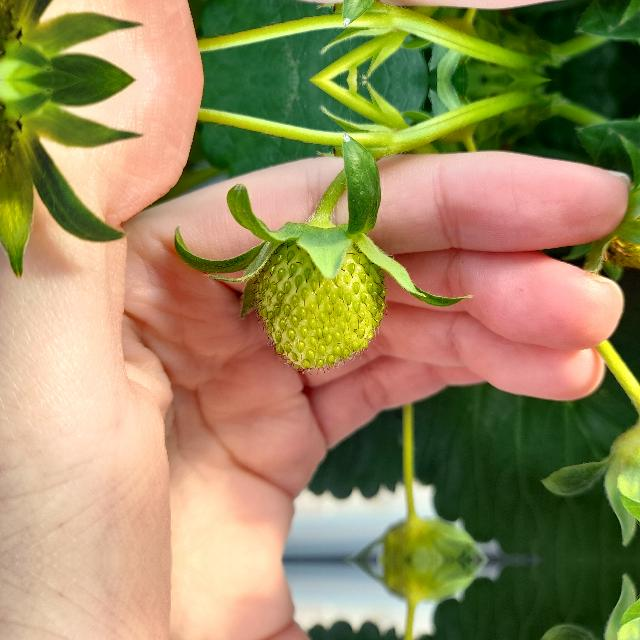Health_25: (255, 238, 385, 370)
